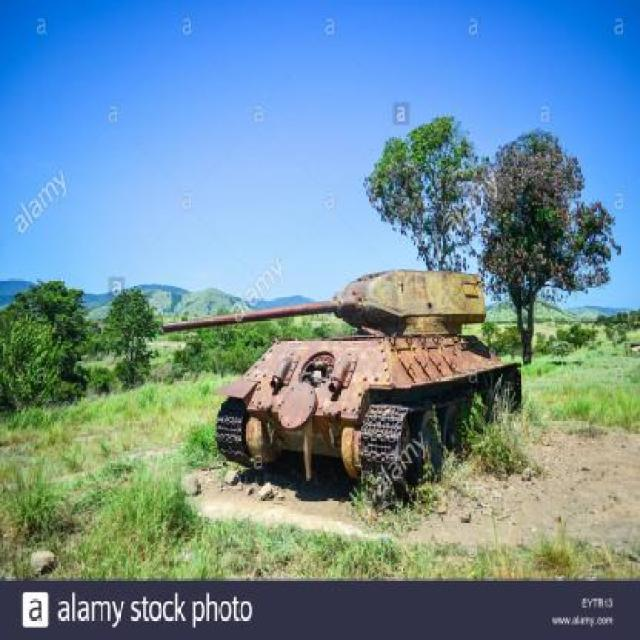corrosion: (163, 268, 531, 503)
